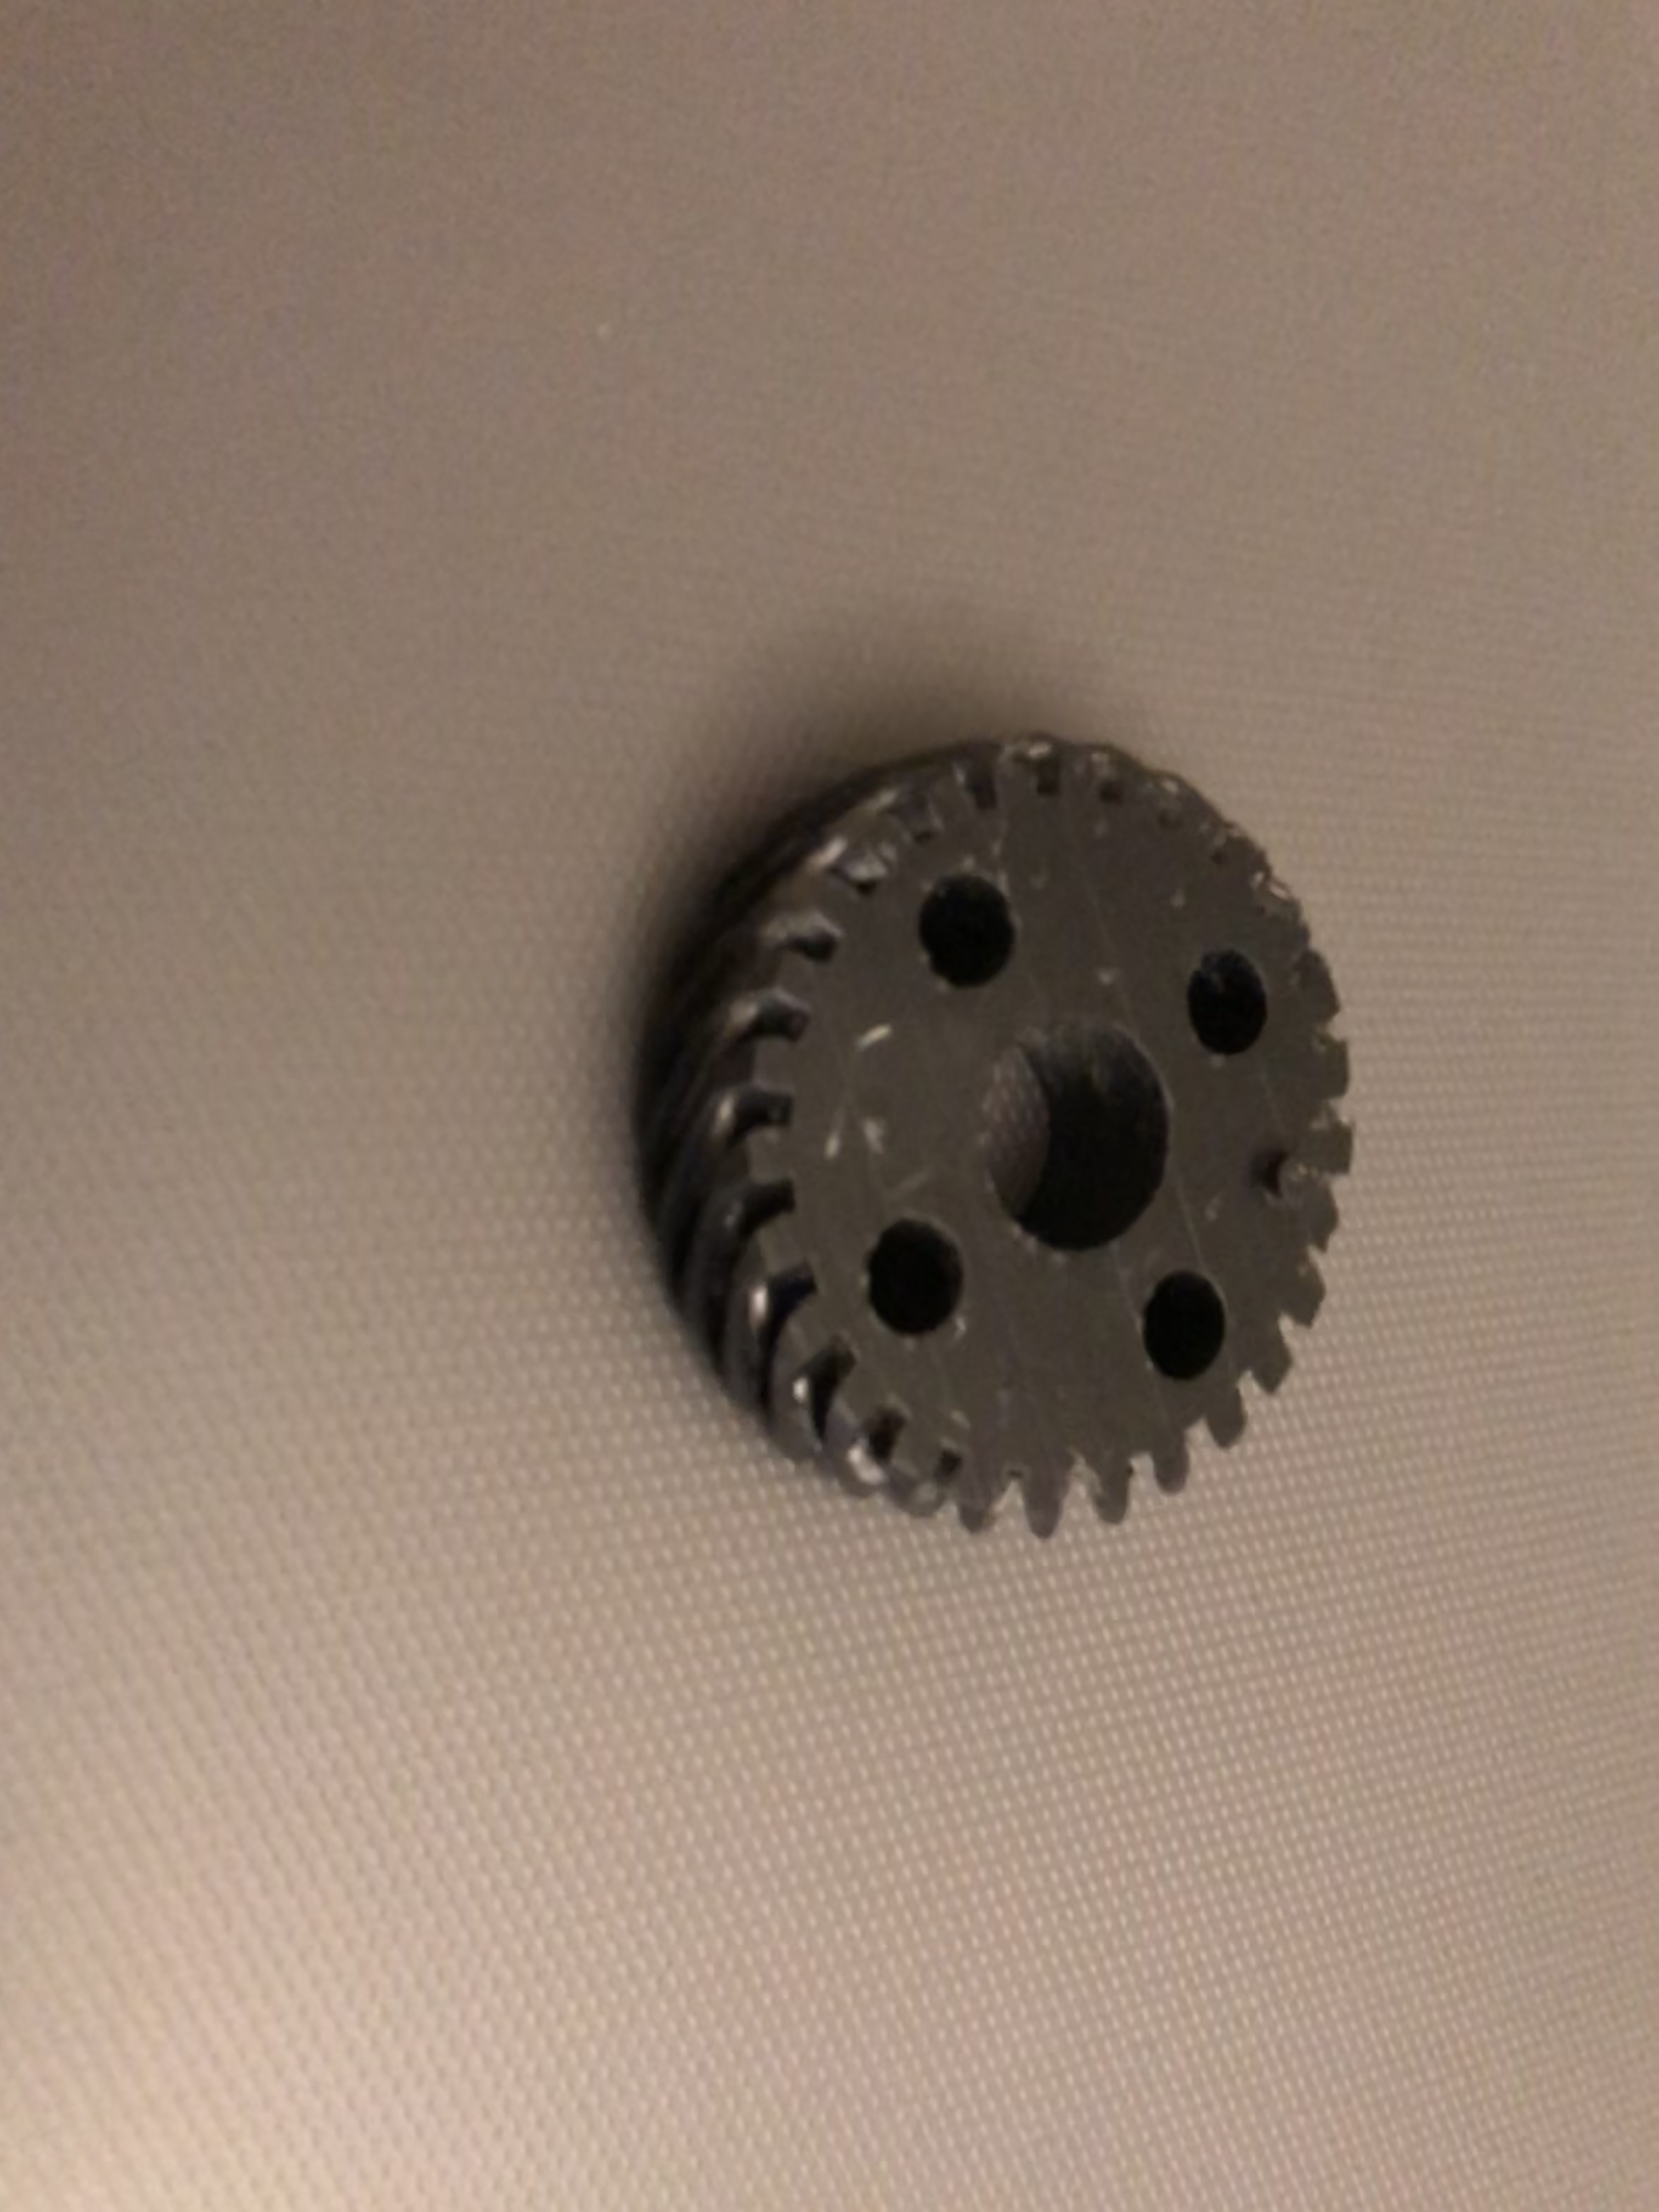Wheel: (652, 733, 1345, 1524)
